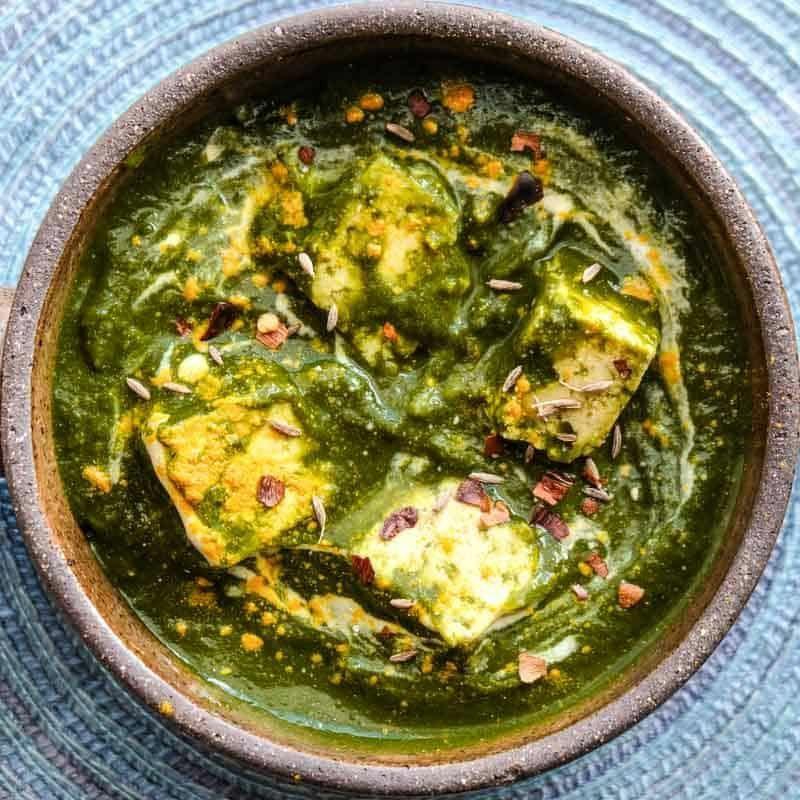PalakPaneer: (55, 44, 752, 736)
